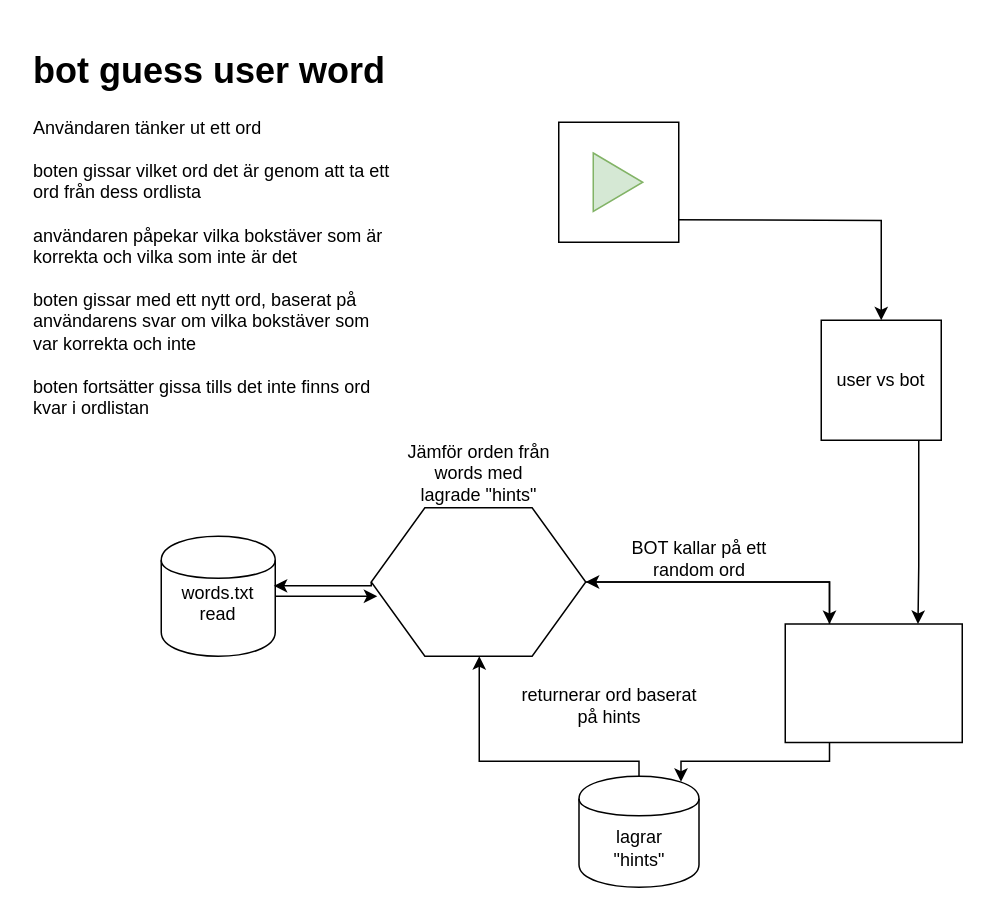
This 989x914 diagram has some shape labels left out. The centre of each missing label's shape, as x and y in pixels:
bot gissar user ger "hints" efter gissning: the point at 873,682
for hints in words.txt return random word based on hints: the point at 478,581
